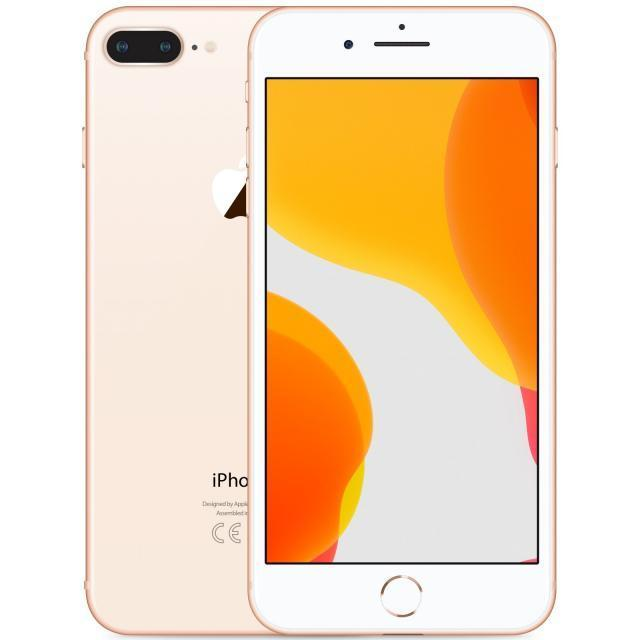phone: (251, 0, 559, 640)
